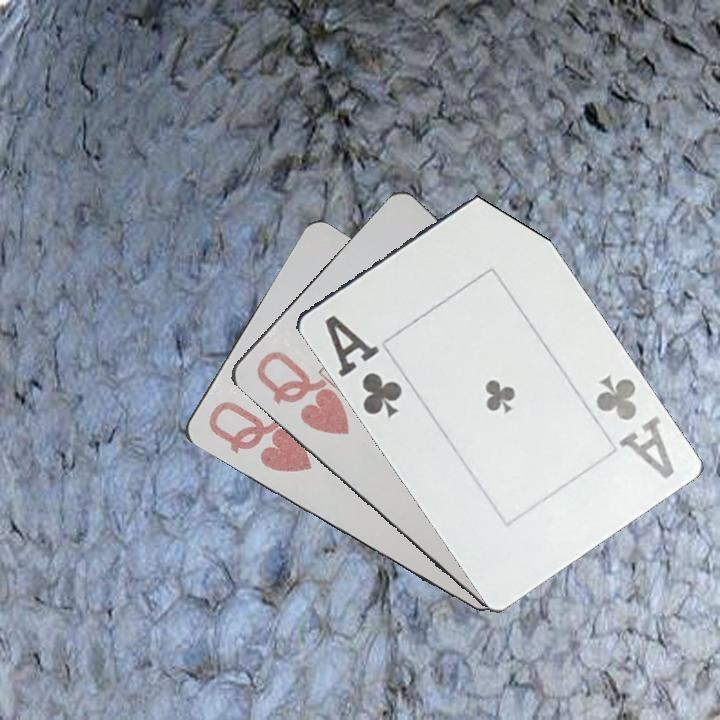Ac: (591, 370, 677, 482), (320, 311, 405, 421)
Qh: (252, 347, 352, 438), (204, 397, 315, 476)
